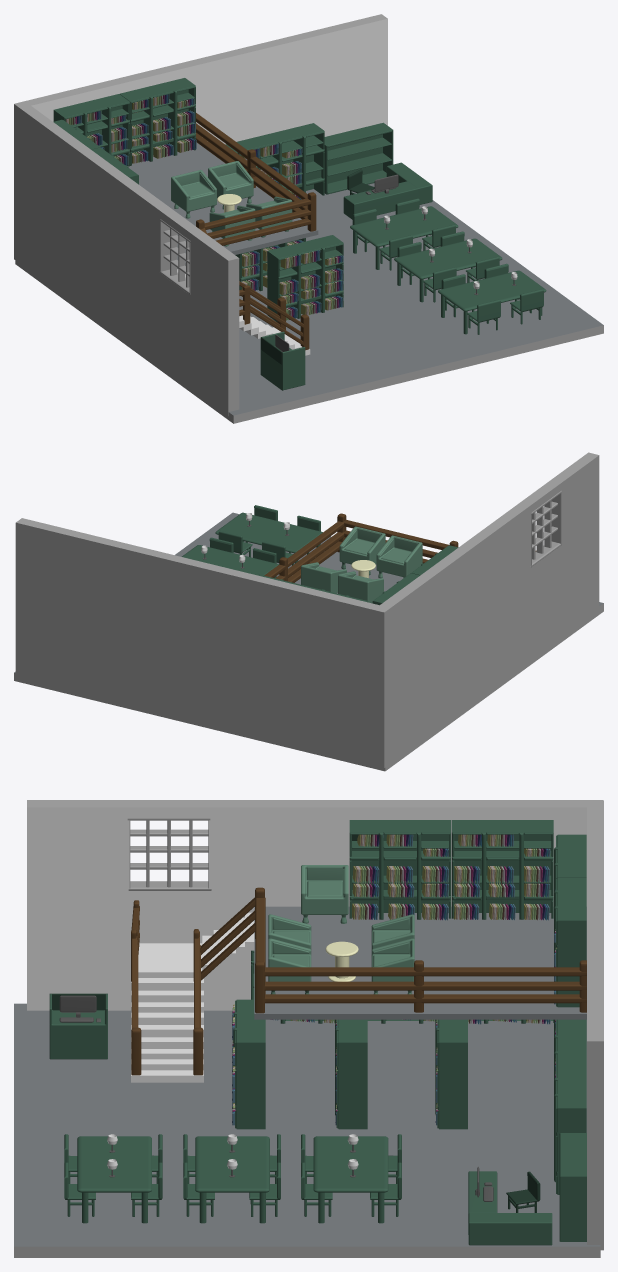
The model's file is library.fbx.
3 renders of one model, top to bottom at view 1: azimuth 30°, elevation 25°; view 2: azimuth 150°, elevation 25°; view 3: azimuth 270°, elevation 25°, orthographic. The views are drawn at different scales.
Visible parts, largest first — view 1: uploads_files_6579569_mf:polySurface2, uploads_files_6579569_mf:pCube50, uploads_files_6579569_mf:polySurface1, uploads_files_6579569_mf:polySurface133, uploads_files_6579569_mf:polySurface13, uploads_files_6579569_mf:pCube51, uploads_files_6579569_mf:polySurface11, uploads_files_6579569_mf:pCylinder7, uploads_files_6579569_mf:polySurface132, uploads_files_6579569_mf:polySurface225, uploads_files_6579569_mf:polySurface97, uploads_files_6579569_mf:polySurface99 (+18 smaller); view 2: uploads_files_6579569_mf:polySurface1, uploads_files_6579569_mf:polySurface2, uploads_files_6579569_mf:pCube50, uploads_files_6579569_mf:polySurface97, uploads_files_6579569_mf:pCylinder7, uploads_files_6579569_mf:polySurface84, uploads_files_6579569_mf:polySurface79, uploads_files_6579569_mf:polySurface98, uploads_files_6579569_mf:polySurface133, uploads_files_6579569_mf:pCube20, uploads_files_6579569_mf:polySurface114, uploads_files_6579569_mf:polySurface13 (+5 smaller); view 3: uploads_files_6579569_mf:pCube50, uploads_files_6579569_mf:polySurface2, uploads_files_6579569_mf:polySurface13, uploads_files_6579569_mf:polySurface133, uploads_files_6579569_mf:polySurface1, uploads_files_6579569_mf:polySurface99, uploads_files_6579569_mf:polySurface98, uploads_files_6579569_mf:polySurface235, uploads_files_6579569_mf:polySurface97, uploads_files_6579569_mf:polySurface234, uploads_files_6579569_mf:polySurface11, uploads_files_6579569_mf:polySurface116 (+35 smaller).
Part boxes in pixels (x1,y1,x2,y2): uploads_files_6579569_mf:polySurface2: (14,103,239,415); uploads_files_6579569_mf:pCube50: (15,183,603,423); uploads_files_6579569_mf:polySurface1: (15,14,387,144); uploads_files_6579569_mf:polySurface133: (53,78,195,184); uploads_files_6579569_mf:polySurface13: (125,142,318,268); uploads_files_6579569_mf:pCube51: (324,122,393,194); uploads_files_6579569_mf:polySurface11: (267,235,343,321); uploads_files_6579569_mf:pCylinder7: (171,161,253,218); uploads_files_6579569_mf:polySurface132: (249,123,324,195); uploads_files_6579569_mf:polySurface225: (279,250,343,320); uploads_files_6579569_mf:polySurface97: (438,270,546,334); uploads_files_6579569_mf:polySurface99: (350,206,458,269); uploads_files_6579569_mf:polySurface1: (15,518,388,767); uploads_files_6579569_mf:polySurface2: (374,452,599,767); uploads_files_6579569_mf:pCube50: (14,512,603,771); uploads_files_6579569_mf:polySurface97: (215,512,322,563); uploads_files_6579569_mf:pCylinder7: (301,562,383,603); uploads_files_6579569_mf:polySurface84: (376,535,422,578); uploads_files_6579569_mf:polySurface79: (339,526,385,564); uploads_files_6579569_mf:polySurface98: (182,545,278,578); uploads_files_6579569_mf:polySurface133: (235,545,458,605); uploads_files_6579569_mf:pCube20: (342,519,449,563); uploads_files_6579569_mf:polySurface114: (218,530,293,565); uploads_files_6579569_mf:polySurface13: (295,551,403,603); uploads_files_6579569_mf:pCube50: (14,1003,600,1257); uploads_files_6579569_mf:polySurface2: (27,800,603,1010); uploads_files_6579569_mf:polySurface13: (254,906,586,1019); uploads_files_6579569_mf:polySurface133: (349,820,586,1007); uploads_files_6579569_mf:polySurface1: (587,801,603,1250); uploads_files_6579569_mf:polySurface99: (313,1136,388,1223); uploads_files_6579569_mf:polySurface98: (195,1136,269,1223); uploads_files_6579569_mf:polySurface235: (453,834,550,920); uploads_files_6579569_mf:polySurface97: (77,1136,151,1223); uploads_files_6579569_mf:polySurface234: (352,834,448,920); uploads_files_6579569_mf:polySurface11: (233,999,265,1129); uploads_files_6579569_mf:polySurface116: (468,1171,552,1245).
Bounding box in the file's own units: 57.43 × 23.59 × 58.81.
